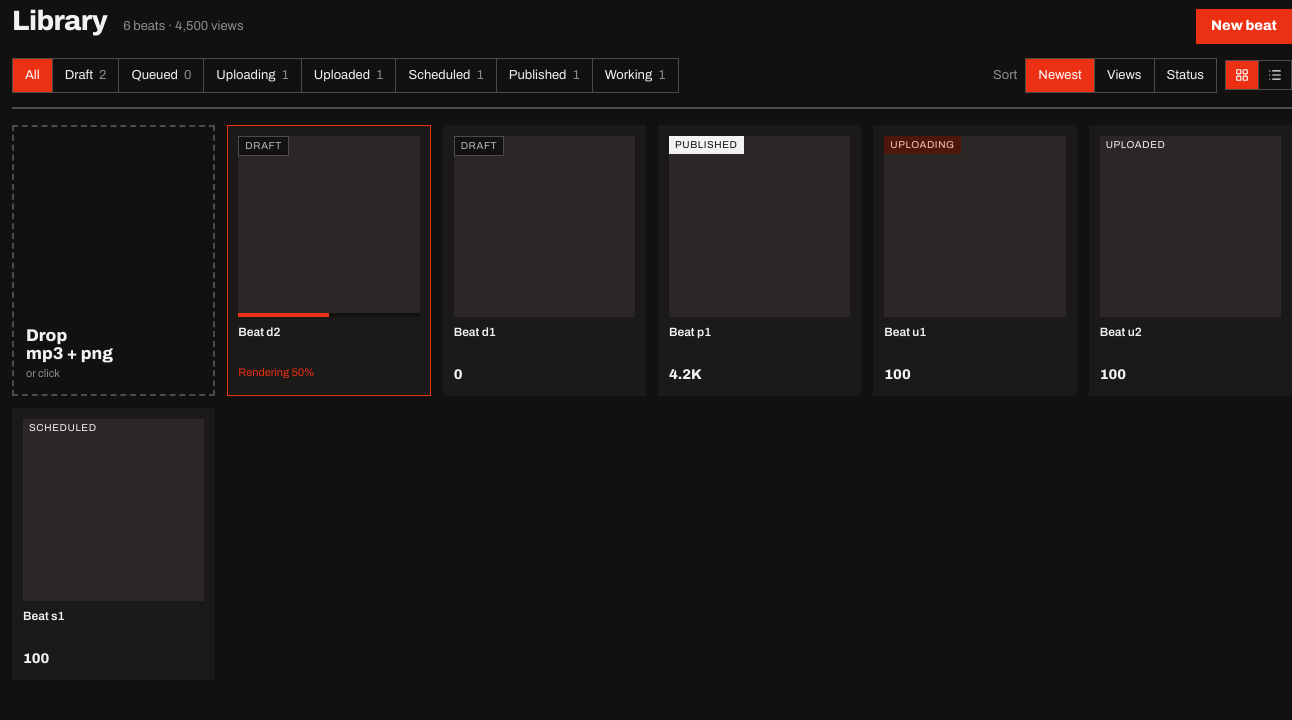
Scenario: every status has a chip and the chip counts add up to the Library
Click the 1st radio button labelled "Scheduled 1": (446, 75) left=395, top=59, right=496, bottom=92
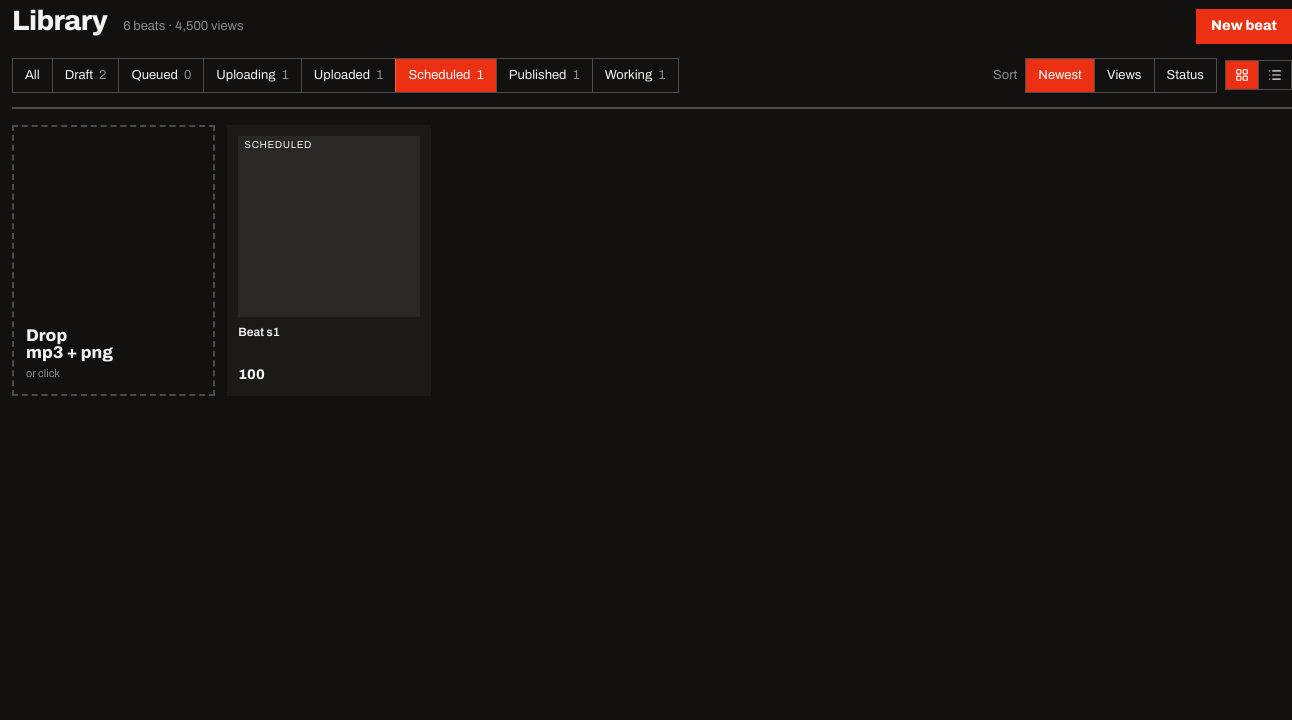
Check: the number of links "Scheduled Beat s1 100" is 1, box left=227, top=125, right=431, bottom=396
